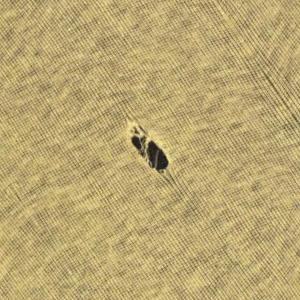hole: (127, 117, 173, 184)
